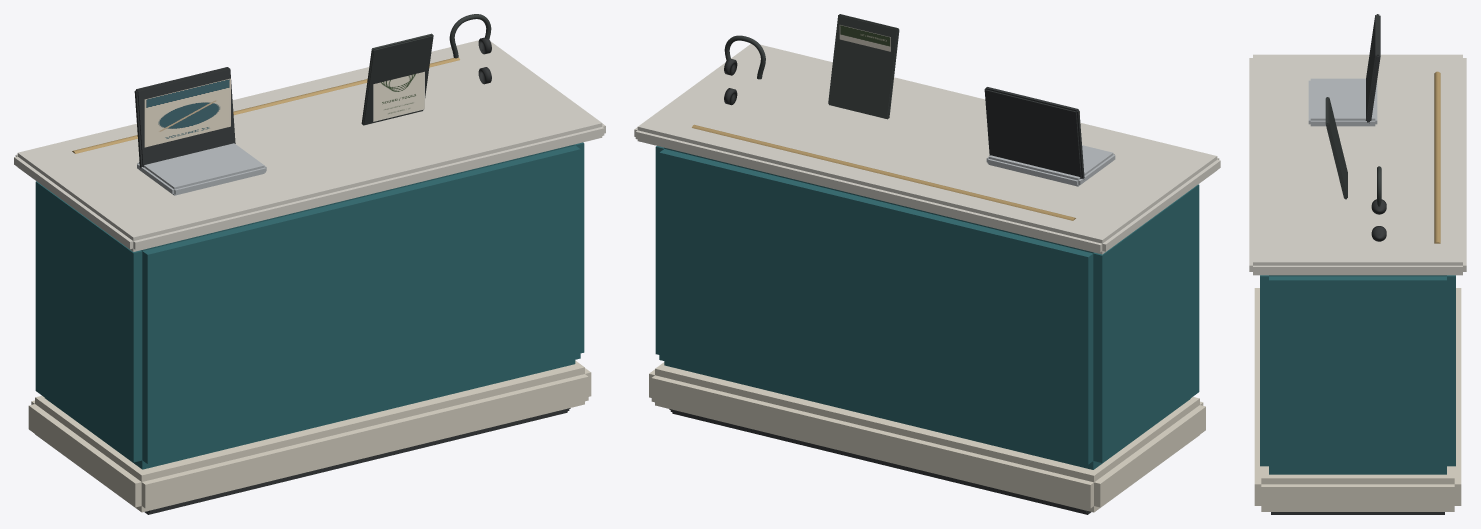
The model's file is collection_v29_electronics_0.glb.
3 views of the same model, side by side, from view 1: azimuth 30°, elevation 25°; view 2: azimuth 150°, elevation 25°; view 3: azimuth 270°, elevation 25° (orthographic). The views are drawn at different scales.
Parts seen in each view (by area): view 1: collection_v29_electronics_0_V29_petrol_enamel, collection_v29_electronics_0_Honed_solid_surface, collection_v29_electronics_0_V29_ivory_lacquer, collection_v29_electronics_0_FY21_original_packaging, collection_v29_electronics_0_Brushed_stainless.003, collection_v29_electronics_0_Anodised_graphite.010, collection_v29_electronics_0_V23_ceramic_graphite.008, collection_v29_electronics_0_V23_original_editorial, collection_v29_electronics_0_Anodised_graphite, collection_v29_electronics_0_Satin_champagne; view 2: collection_v29_electronics_0_V29_petrol_enamel, collection_v29_electronics_0_Honed_solid_surface, collection_v29_electronics_0_V29_ivory_lacquer, collection_v29_electronics_0_Anodised_graphite.010, collection_v29_electronics_0_V23_ceramic_graphite.008, collection_v29_electronics_0_Anodised_graphite, collection_v29_electronics_0_Brushed_stainless.003, collection_v29_electronics_0_Satin_champagne, collection_v29_electronics_0_V23_original_editorial; view 3: collection_v29_electronics_0_Honed_solid_surface, collection_v29_electronics_0_V29_petrol_enamel, collection_v29_electronics_0_V29_ivory_lacquer, collection_v29_electronics_0_Brushed_stainless.003, collection_v29_electronics_0_Satin_champagne, collection_v29_electronics_0_Anodised_graphite.010, collection_v29_electronics_0_V23_ceramic_graphite.008, collection_v29_electronics_0_Anodised_graphite, collection_v29_electronics_0_V23_shoe_rubber.
Boxes of the visible parts, <box> form: collection_v29_electronics_0_V29_petrol_enamel: <box>35,142,584,469</box>; collection_v29_electronics_0_Honed_solid_surface: <box>14,40,605,251</box>; collection_v29_electronics_0_V29_ivory_lacquer: <box>28,360,591,512</box>; collection_v29_electronics_0_FY21_original_packaging: <box>144,78,230,147</box>; collection_v29_electronics_0_Brushed_stainless.003: <box>137,143,266,195</box>; collection_v29_electronics_0_Anodised_graphite.010: <box>134,67,235,168</box>; collection_v29_electronics_0_V23_ceramic_graphite.008: <box>361,33,433,125</box>; collection_v29_electronics_0_V23_original_editorial: <box>373,71,424,121</box>; collection_v29_electronics_0_Anodised_graphite: <box>144,408,570,514</box>; collection_v29_electronics_0_Satin_champagne: <box>72,57,459,153</box>; collection_v29_electronics_0_V29_petrol_enamel: <box>655,146,1199,469</box>; collection_v29_electronics_0_Honed_solid_surface: <box>634,44,1220,254</box>; collection_v29_electronics_0_V29_ivory_lacquer: <box>649,362,1205,512</box>; collection_v29_electronics_0_Anodised_graphite.010: <box>984,87,1084,179</box>; collection_v29_electronics_0_V23_ceramic_graphite.008: <box>828,14,899,119</box>; collection_v29_electronics_0_Anodised_graphite: <box>669,409,1091,514</box>; collection_v29_electronics_0_Brushed_stainless.003: <box>986,145,1115,186</box>; collection_v29_electronics_0_Satin_champagne: <box>692,124,1075,220</box>; collection_v29_electronics_0_V23_original_editorial: <box>839,25,890,51</box>; collection_v29_electronics_0_Honed_solid_surface: <box>1249,54,1466,275</box>; collection_v29_electronics_0_V29_petrol_enamel: <box>1260,275,1455,474</box>; collection_v29_electronics_0_V29_ivory_lacquer: <box>1254,288,1461,511</box>; collection_v29_electronics_0_Brushed_stainless.003: <box>1308,78,1377,126</box>; collection_v29_electronics_0_Satin_champagne: <box>1434,71,1440,243</box>; collection_v29_electronics_0_Anodised_graphite.010: <box>1365,14,1380,123</box>; collection_v29_electronics_0_V23_ceramic_graphite.008: <box>1325,97,1347,199</box>; collection_v29_electronics_0_Anodised_graphite: <box>1271,512,1444,514</box>; collection_v29_electronics_0_V23_shoe_rubber: <box>1371,199,1386,241</box>.
Bounding box in the file's own units: 1.88 × 1.44 × 0.82.
12 materials, 2 textured.
